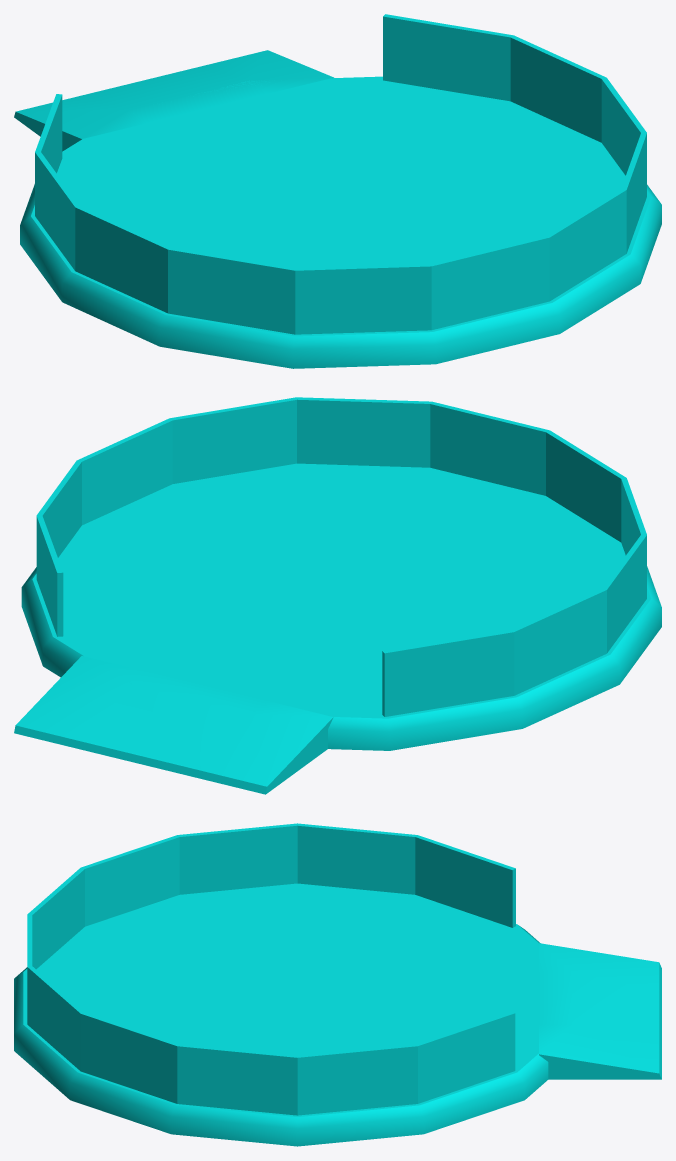
Rendered from SM_Prop_Car_Podium_02_Collision.fbx.
The picture shows the model from 3 angles, top to bottom: view 1: azimuth 30°, elevation 25°; view 2: azimuth 150°, elevation 25°; view 3: azimuth 270°, elevation 25°; orthographic projection. The views are drawn at different scales.
Parts seen in each view (by area): view 1: SM_Prop_Car_Podium_02_Collision; view 2: SM_Prop_Car_Podium_02_Collision; view 3: SM_Prop_Car_Podium_02_Collision.
Part boxes in pixels (x1,y1,x2,y2): SM_Prop_Car_Podium_02_Collision: [14, 14, 661, 368]; SM_Prop_Car_Podium_02_Collision: [14, 397, 661, 794]; SM_Prop_Car_Podium_02_Collision: [14, 823, 661, 1146].
Size of the model in its own units: 710 by 112 by 791.
